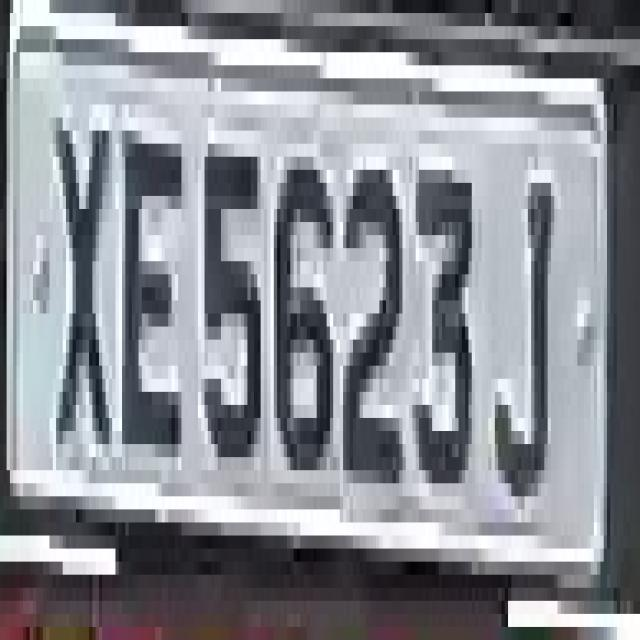2: (333, 104, 409, 510)
3: (406, 118, 475, 536)
5: (198, 91, 261, 496)
6: (274, 118, 340, 496)
E: (112, 92, 182, 470)
J: (495, 104, 564, 510)
X: (43, 66, 112, 510)
